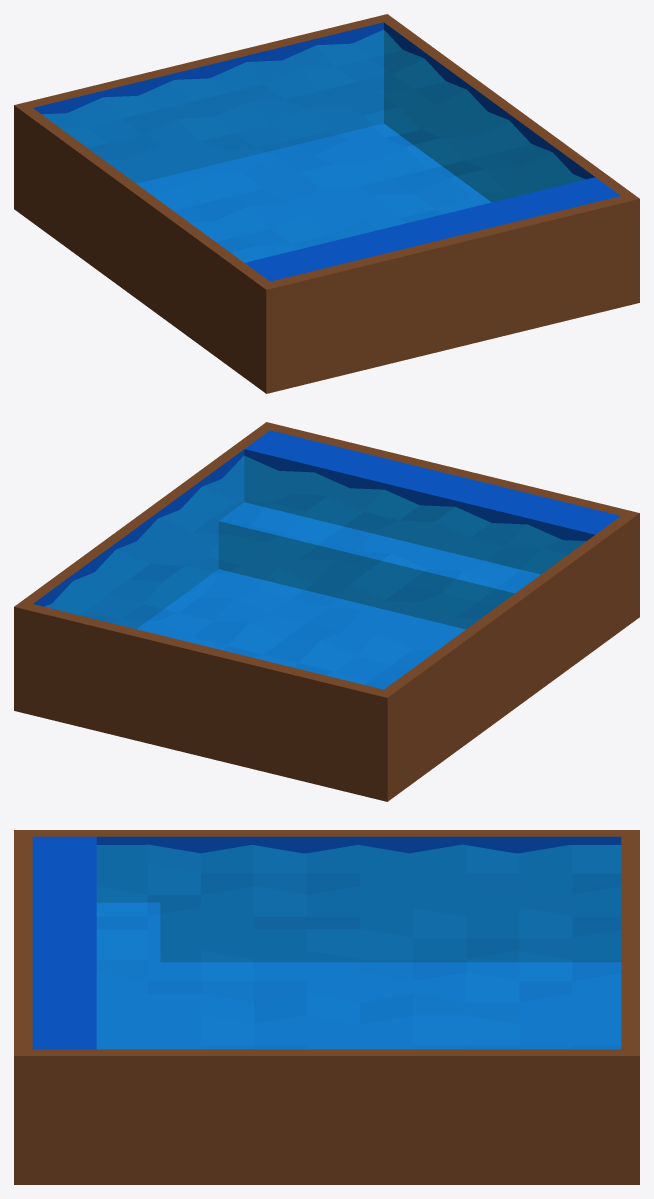
Rendered from SwimmingPool.fbx.
3 views of the same model, one above another, from view 1: azimuth 30°, elevation 25°; view 2: azimuth 150°, elevation 25°; view 3: azimuth 270°, elevation 25° (orthographic). The views are drawn at different scales.
Parts seen in each view (by area): view 1: Cube, Cube_001; view 2: Cube, Cube_001; view 3: Cube, Cube_001.
Boxes of the visible parts, bbox=[...] form: Cube: bbox=[14, 14, 639, 393]; Cube_001: bbox=[42, 30, 584, 262]; Cube: bbox=[14, 422, 639, 801]; Cube_001: bbox=[45, 456, 585, 689]; Cube: bbox=[14, 830, 639, 1184]; Cube_001: bbox=[97, 845, 620, 1048].
Bounding box in the file's own units: 8.17 × 2.17 × 9.57.
